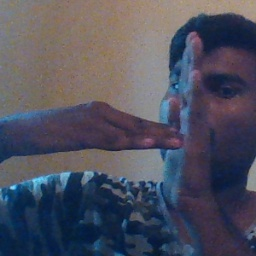Z: (103, 27, 217, 206)
